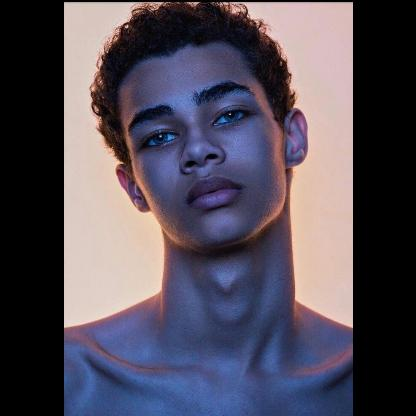Male: (112, 47, 306, 247)
